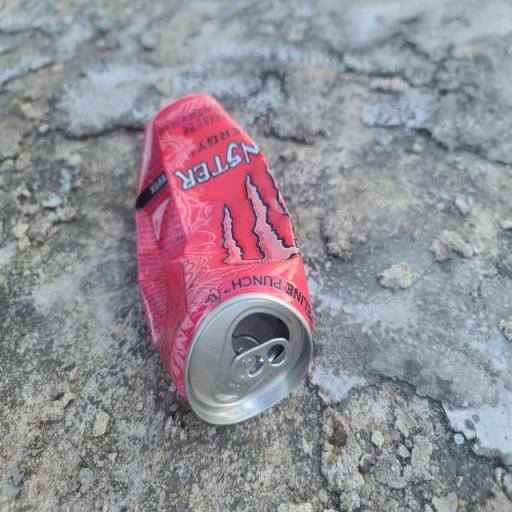metal: (117, 80, 329, 446)
